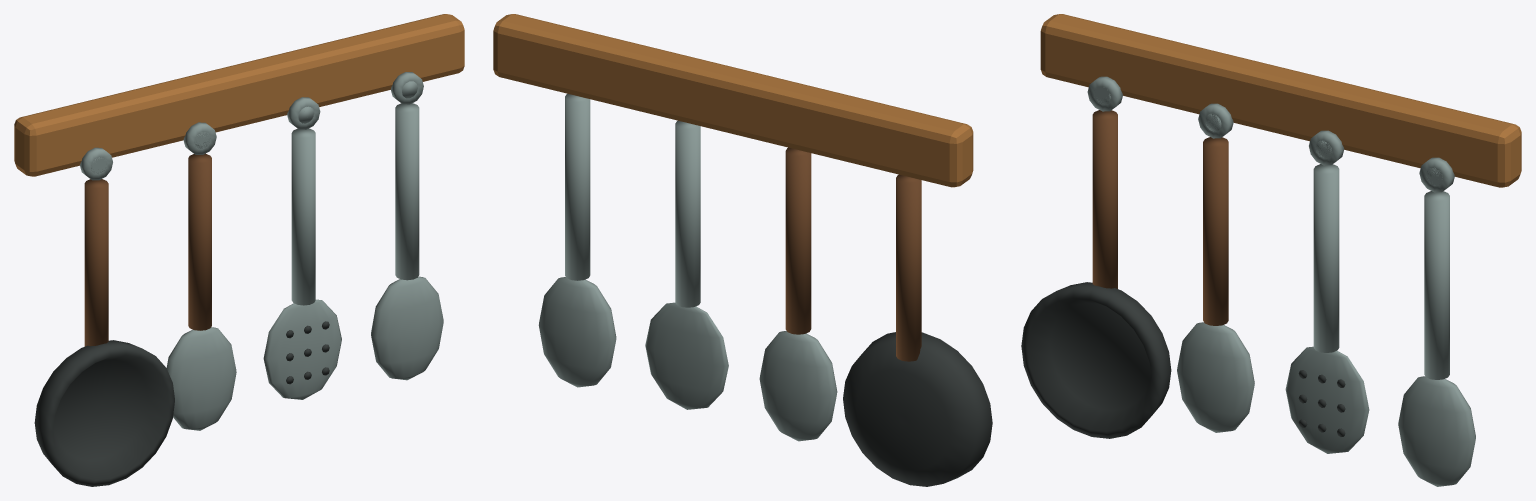
The model's file is 21_cooking_utensils.glb.
3 views of the same model, side by side, from view 1: azimuth 30°, elevation 25°; view 2: azimuth 150°, elevation 25°; view 3: azimuth 330°, elevation 25° (orthographic). The views are drawn at different scales.
Visible parts, largest first — view 1: Hanging rail, Frying pan, Spoon head.001, Skimmer head, Spoon head, Utensil handle.005, Utensil handle.006, Utensil handle.004, Utensil handle.003, Hanging loop, Hanging loop.002, Hanging loop.003 (+1 smaller); view 2: Hanging rail, Frying pan, Skimmer head, Spoon head, Spoon head.001, Utensil handle.004, Utensil handle.005, Utensil handle.006, Utensil handle.003; view 3: Hanging rail, Frying pan, Spoon head, Spoon head.001, Skimmer head, Utensil handle.005, Utensil handle.004, Utensil handle.006, Utensil handle.003, Hanging loop.002, Hanging loop.003, Hanging loop (+1 smaller).
Part boxes in pixels (bbox=[...]): Hanging rail: bbox=[14, 14, 464, 176]; Frying pan: bbox=[34, 340, 174, 486]; Spoon head.001: bbox=[371, 276, 443, 380]; Skimmer head: bbox=[263, 299, 341, 399]; Spoon head: bbox=[166, 327, 236, 430]; Utensil handle.005: bbox=[291, 128, 315, 305]; Utensil handle.006: bbox=[395, 103, 419, 280]; Utensil handle.004: bbox=[188, 153, 211, 330]; Utensil handle.003: bbox=[84, 179, 108, 346]; Hanging loop: bbox=[80, 147, 112, 180]; Hanging loop.002: bbox=[287, 97, 320, 129]; Hanging loop.003: bbox=[390, 72, 423, 104]; Hanging rail: bbox=[493, 14, 973, 187]; Frying pan: bbox=[843, 332, 992, 486]; Skimmer head: bbox=[645, 302, 728, 409]; Spoon head: bbox=[759, 331, 837, 441]; Spoon head.001: bbox=[538, 277, 616, 387]; Utensil handle.004: bbox=[785, 147, 811, 334]; Utensil handle.005: bbox=[675, 120, 700, 307]; Utensil handle.006: bbox=[565, 93, 590, 280]; Utensil handle.003: bbox=[896, 174, 921, 361]; Hanging rail: bbox=[1040, 14, 1521, 187]; Frying pan: bbox=[1021, 282, 1171, 438]; Spoon head: bbox=[1177, 322, 1254, 432]; Spoon head.001: bbox=[1398, 376, 1475, 486]; Skimmer head: bbox=[1285, 346, 1369, 453]; Utensil handle.005: bbox=[1313, 164, 1339, 352]; Utensil handle.004: bbox=[1203, 137, 1228, 325]; Utensil handle.006: bbox=[1424, 191, 1449, 379]; Utensil handle.003: bbox=[1092, 110, 1117, 288]; Hanging loop.002: bbox=[1309, 130, 1344, 165]; Hanging loop.003: bbox=[1419, 157, 1454, 192]; Hanging loop: bbox=[1087, 76, 1122, 111].
Bounding box in the file's own units: 1.4 × 1.1 × 0.19.
